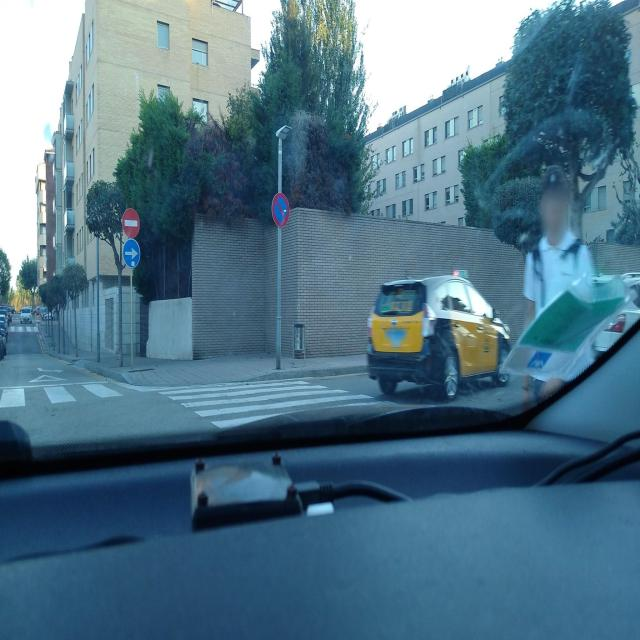forb_stopping: (272, 192, 290, 228)
